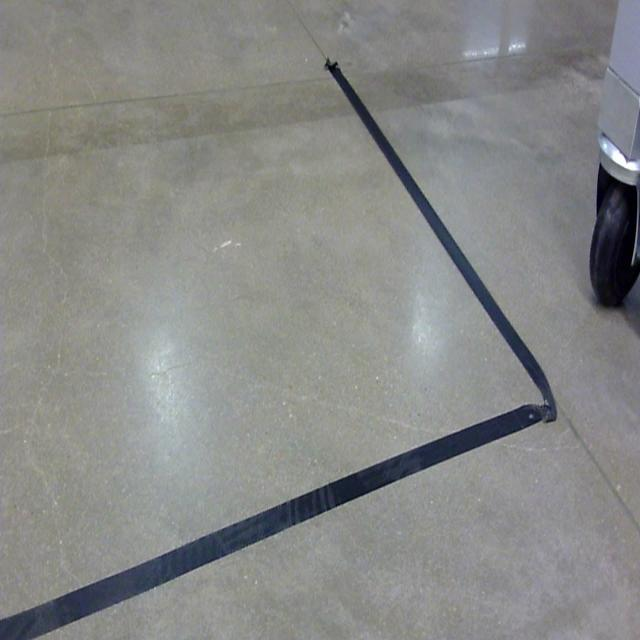tape: (0, 44, 578, 640)
